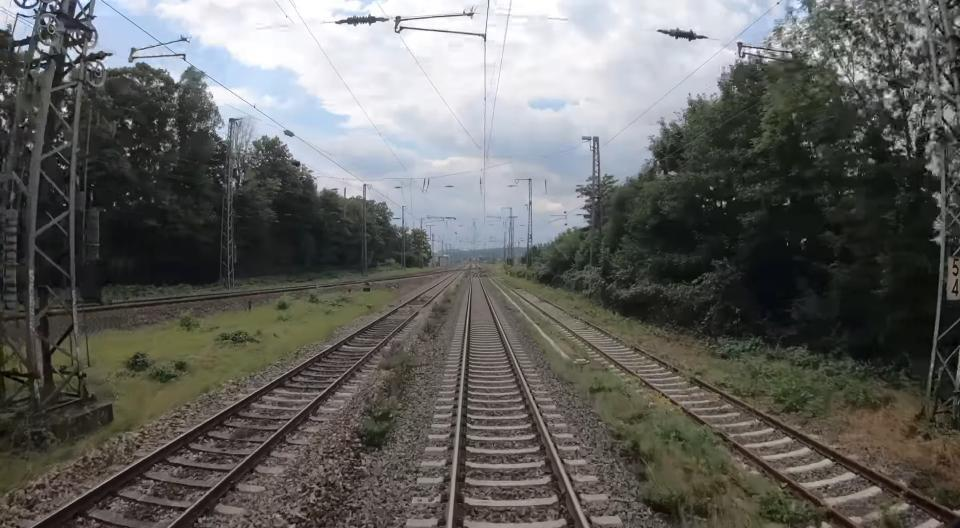Plant: (553, 363, 823, 528), (358, 342, 414, 449), (418, 292, 452, 341)
